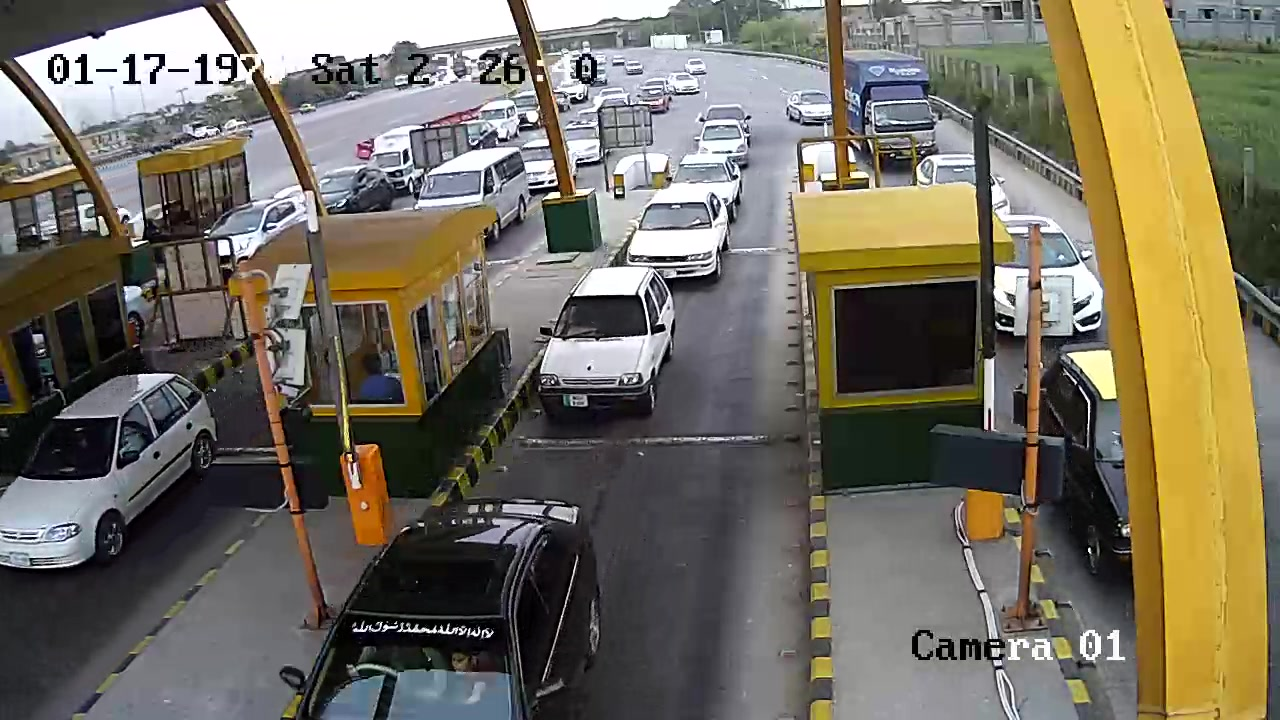F1: (524, 268, 686, 431)
